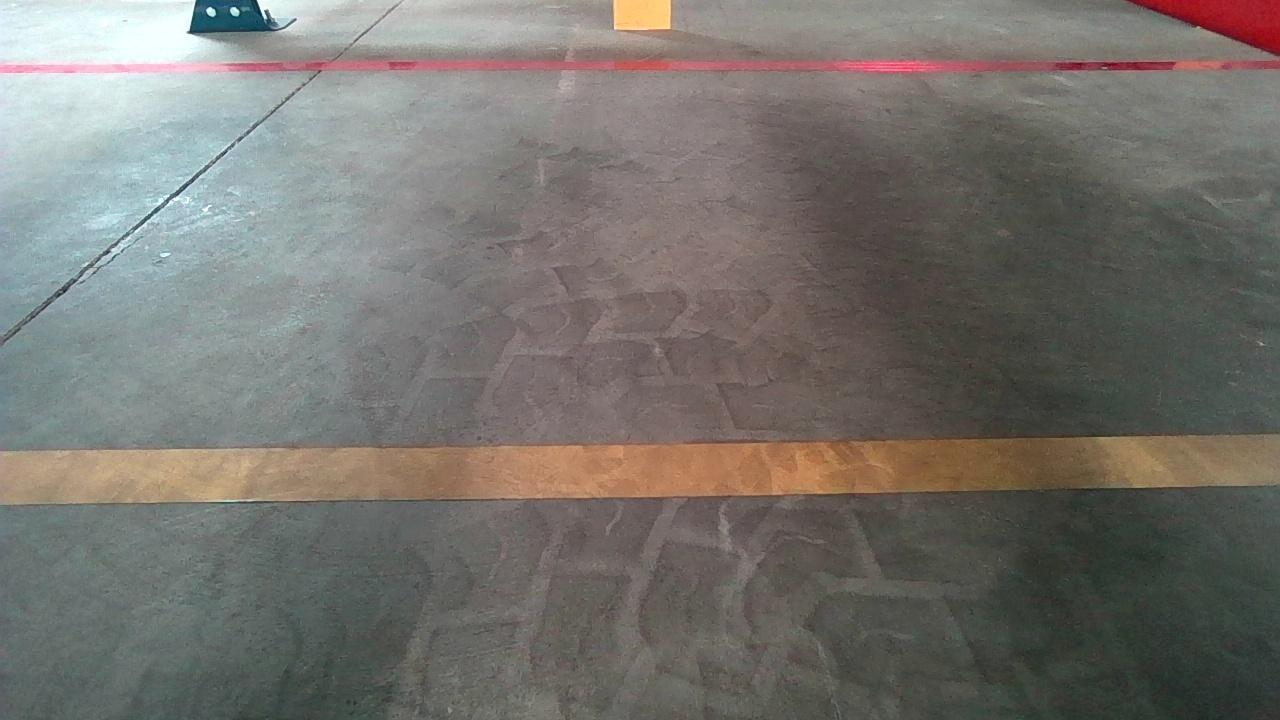red_line: (0, 58, 1280, 72)
